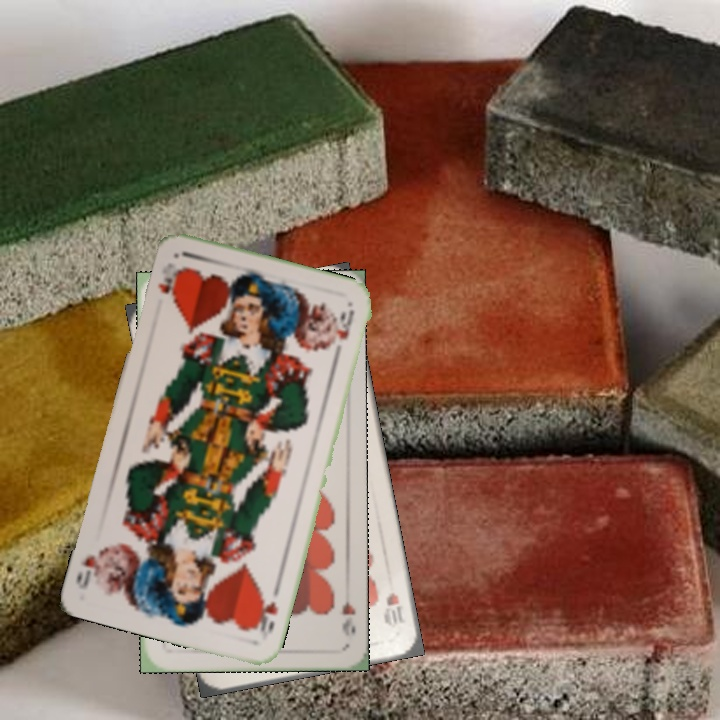H10: (380, 588, 408, 631)
H9: (338, 585, 358, 638)
HO: (250, 583, 282, 638), (153, 262, 186, 305)
